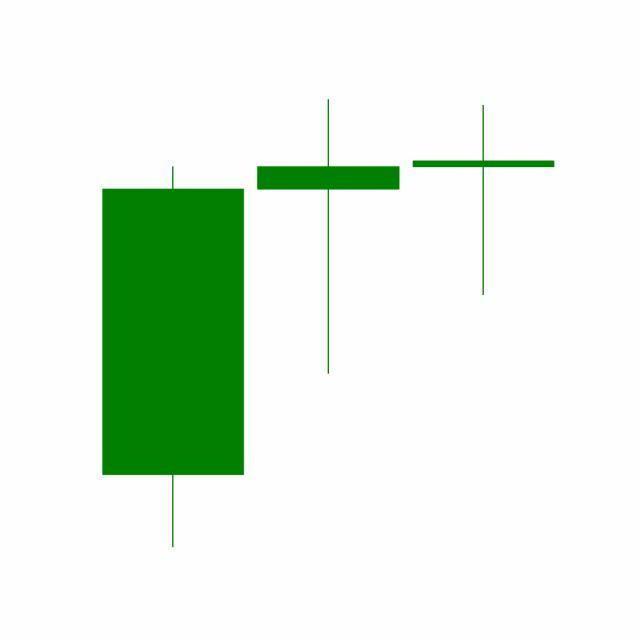Spinning Top: (406, 103, 562, 298)
